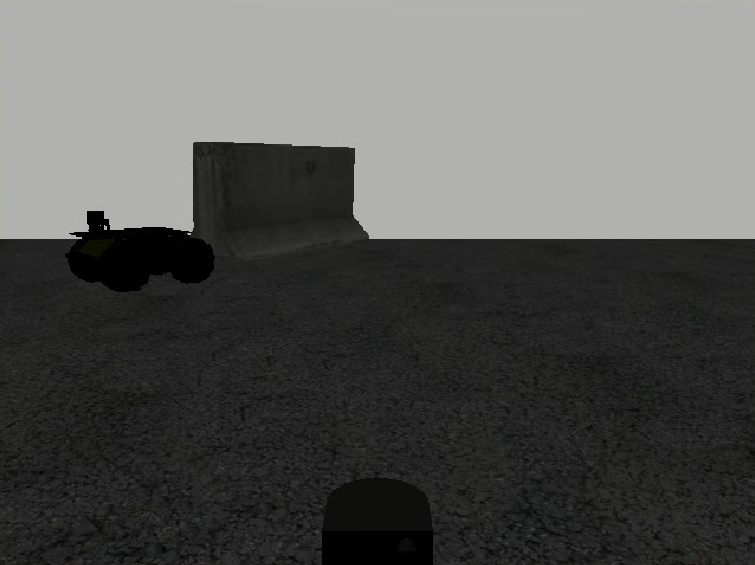husky: (65, 227, 215, 292)
